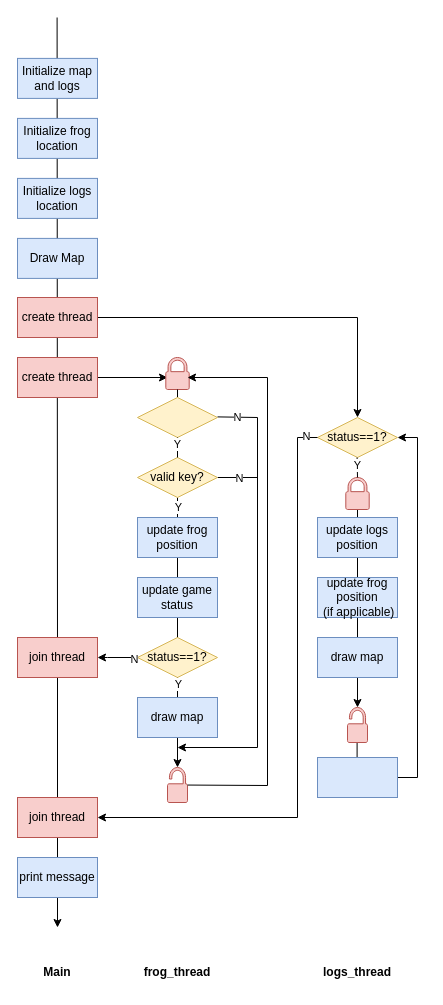
Some shapes in this 443 by 1005 pixel diagram are drawn without their labels. The shapes that lost their labels are listed below. From the top down, each one's box as (x1, y1, x2, y2) in pixels, then its label:
(136, 396, 218, 438): kbhit?
(316, 756, 398, 798): sleep
